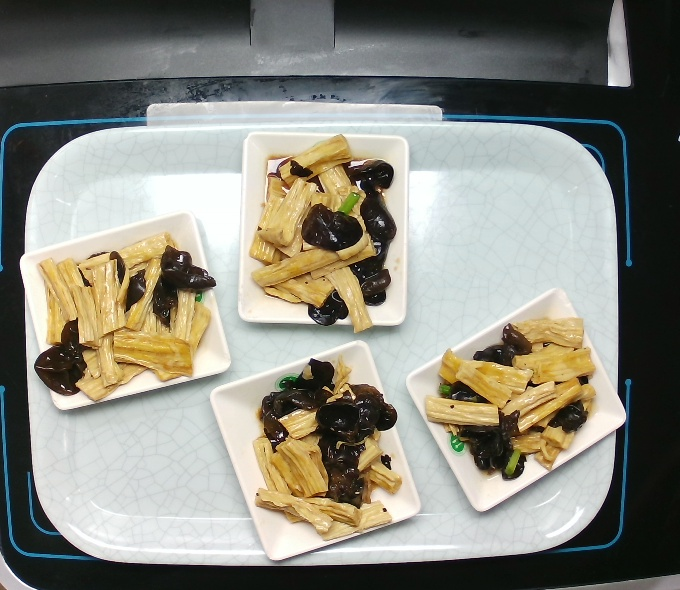wcq-MuErFuZhu: (251, 133, 401, 336), (424, 316, 607, 480), (38, 236, 220, 400), (251, 354, 408, 539)
